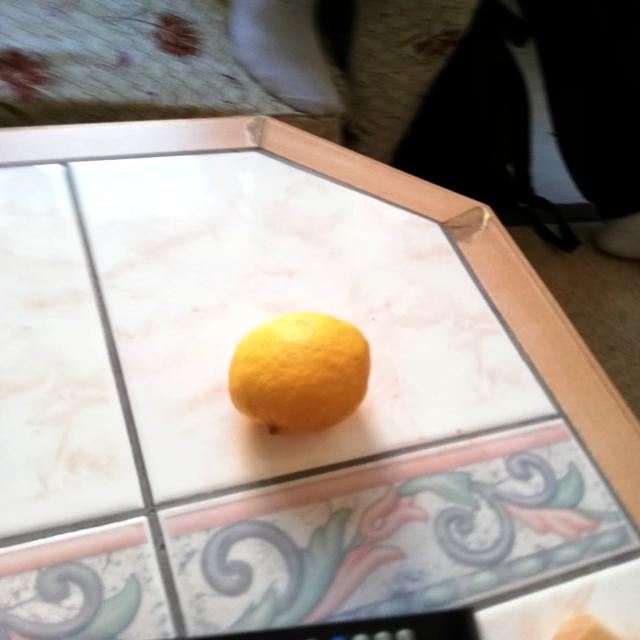lemon: (214, 304, 387, 442)
